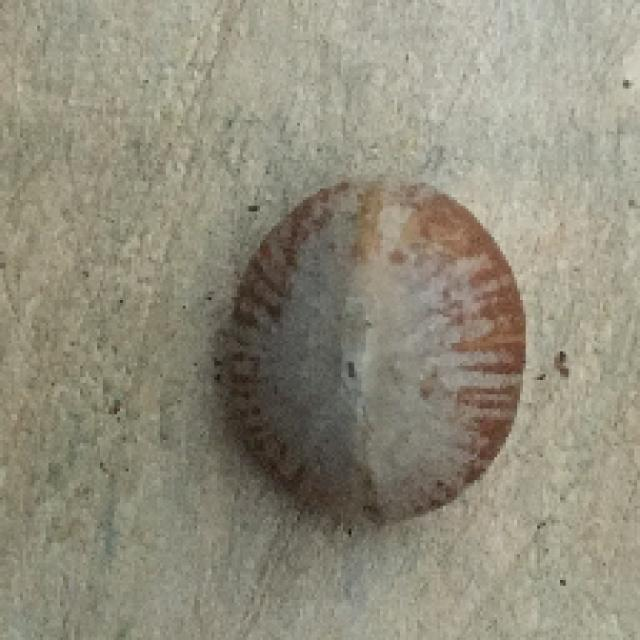qualityHazelnut: (216, 168, 536, 539)
